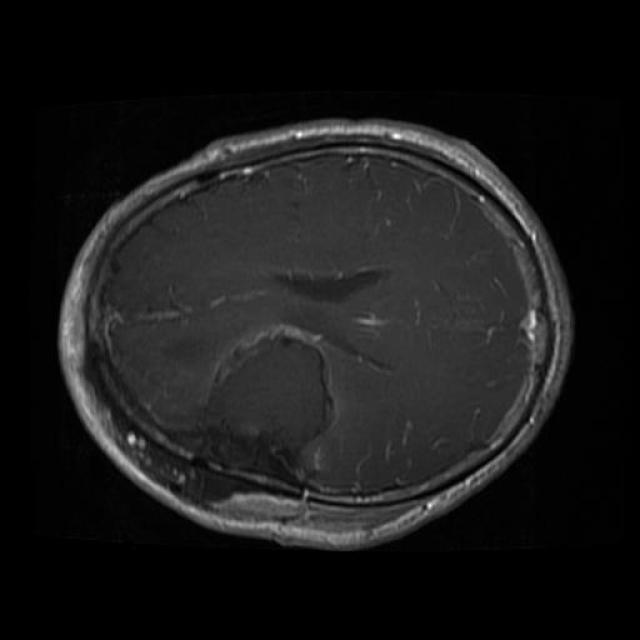Glioma: (98, 325, 335, 513)
